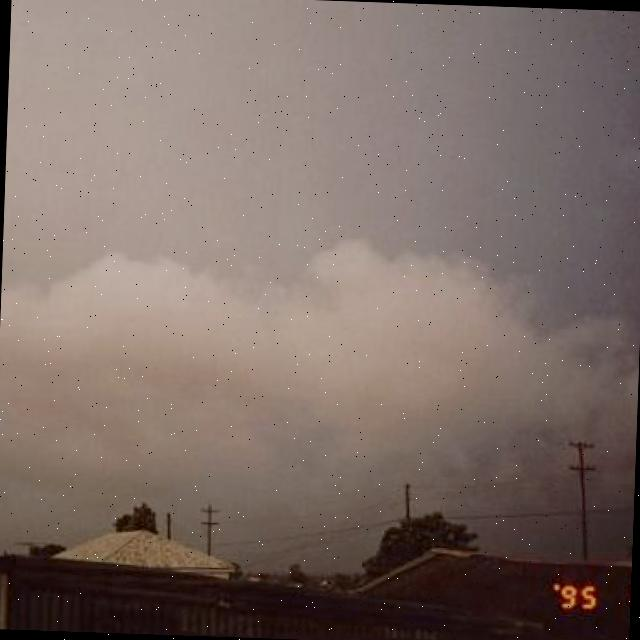St: (1, 52, 640, 422)
